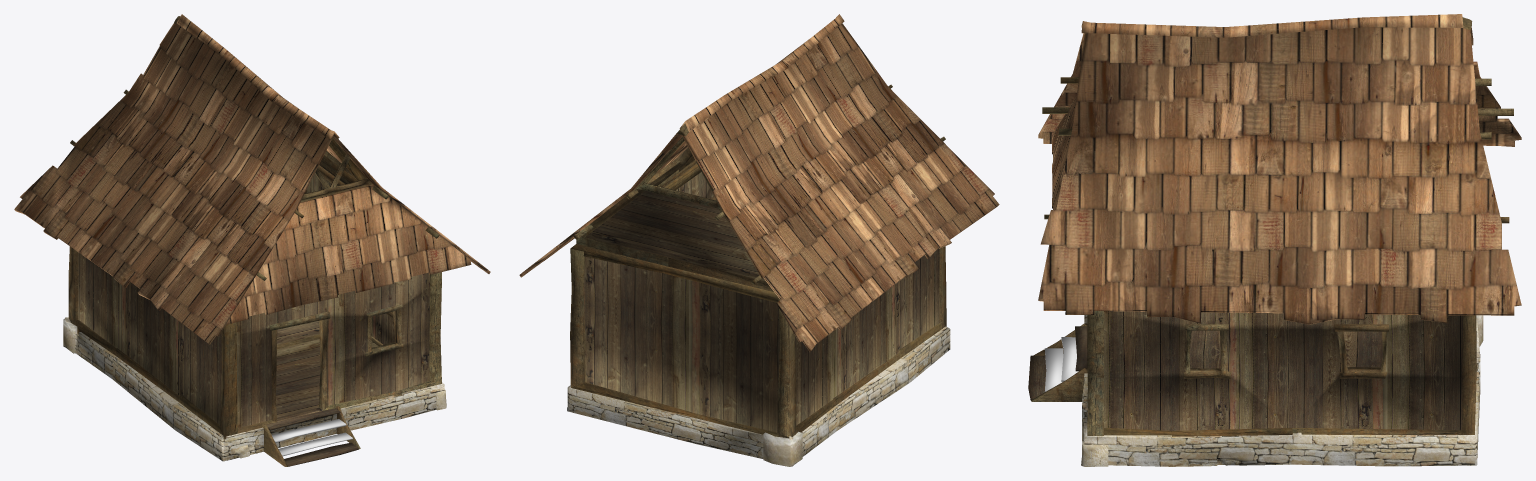
File: WoodenCabinBlender2.fbx
3 renders of one model, left to right at view 1: azimuth 30°, elevation 25°; view 2: azimuth 150°, elevation 25°; view 3: azimuth 270°, elevation 25°, orthographic. The views are drawn at different scales.
Visible parts, largest first — view 1: WoodCabin.014; view 2: WoodCabin.014; view 3: WoodCabin.014.
Part boxes in pixels (x1=…): WoodCabin.014: x1=14, y1=14, x2=490, y2=466; WoodCabin.014: x1=519, y1=14, x2=999, y2=466; WoodCabin.014: x1=1028, y1=14, x2=1521, y2=466.
Size of the model in its own units: 386 by 387 by 450.
2 materials, 1 textured.
